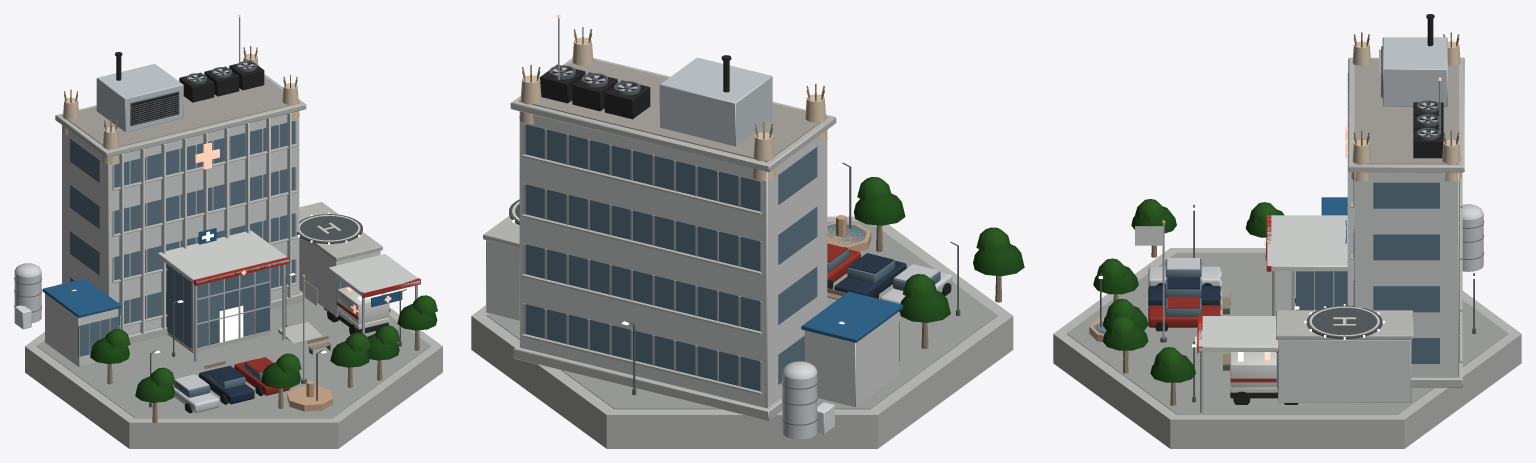
The model's file is hospital_africa.glb.
The picture shows the model from 3 angles, left to right: view 1: azimuth 30°, elevation 25°; view 2: azimuth 150°, elevation 25°; view 3: azimuth 270°, elevation 25°; orthographic projection. The views are drawn at different scales.
Visible parts, largest first — view 1: cladding, wall_concrete, glass, pavers, paint, leaf, gravel, dark, metal, steel_dark, plaster, wood (+3 smaller); view 2: cladding, wall_concrete, glass, paint, pavers, leaf, gravel, dark, plaster, steel_dark, wood, stone; view 3: cladding, wall_concrete, pavers, paint, glass, leaf, gravel, dark, plaster, metal, steel_dark, wood (+1 smaller).
Boxes of the visible parts, x1,y1,x2,y2 form: cladding: (14,63,420,366); wall_concrete: (25,74,442,448); glass: (70,121,347,397); pavers: (37,290,430,418); paint: (14,214,420,412); leaf: (90,295,437,402); gravel: (61,77,299,149); dark: (115,52,388,413); metal: (132,17,417,379); steel_dark: (67,61,406,407); plaster: (62,54,299,164); wood: (64,46,419,422); cladding: (486,57,899,434); wall_concrete: (471,58,1013,448); glass: (525,124,940,391); paint: (509,199,952,439); pavers: (486,221,997,409); leaf: (853,177,1024,322); gravel: (519,59,827,161); dark: (539,55,951,298); plaster: (519,37,827,180); steel_dark: (549,65,960,395); wood: (522,27,1002,348); stone: (827,215,871,251); cladding: (1198,37,1459,402); wall_concrete: (1053,57,1521,448); pavers: (1066,252,1508,414); paint: (1148,197,1484,392); glass: (1093,182,1459,389); leaf: (1093,199,1284,382); gravel: (1354,59,1458,164); dark: (1155,14,1443,404); plaster: (1351,41,1461,181); metal: (1162,49,1440,412); steel_dark: (1100,46,1475,402); wood: (1113,32,1459,405).
Bounding box in the file's own units: 21.3 × 18.85 × 24.6.
